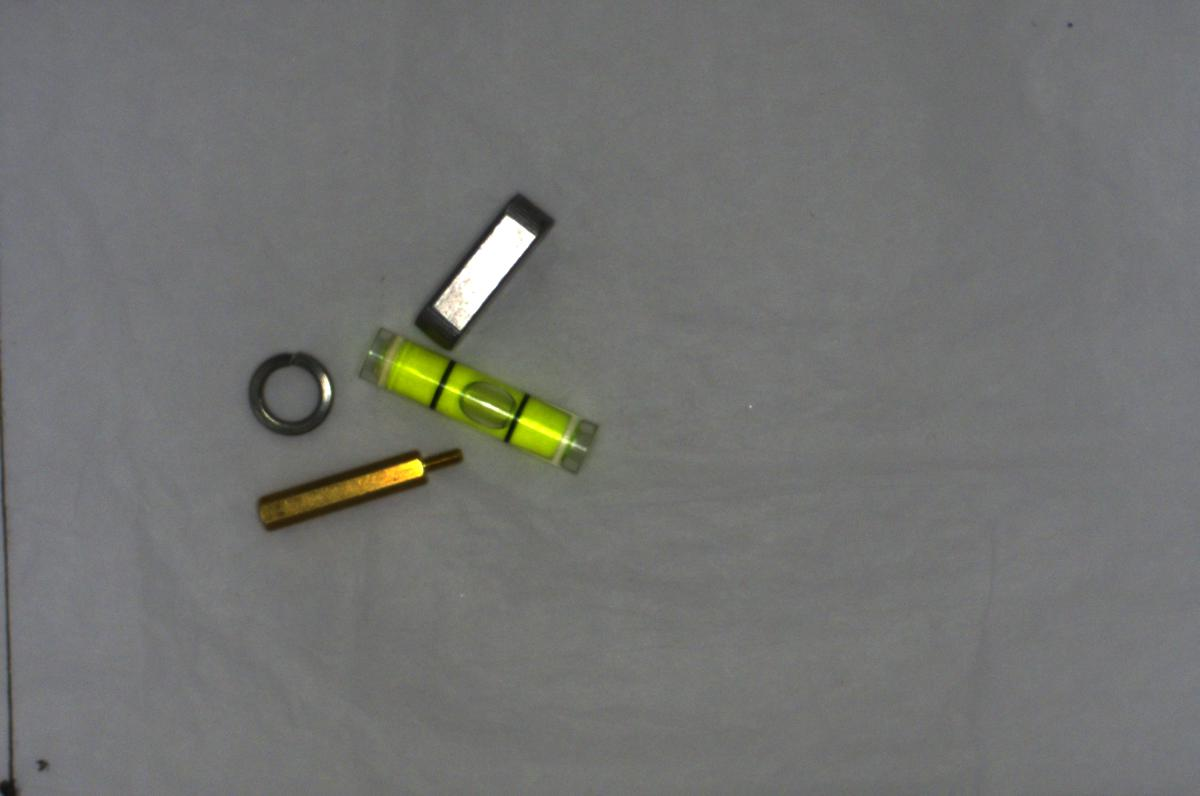Hexagon pillar: (250, 438, 468, 532)
Horizontal bubble: (351, 314, 605, 479)
Keybar: (408, 179, 560, 346)
Spring washer: (238, 342, 341, 439)
